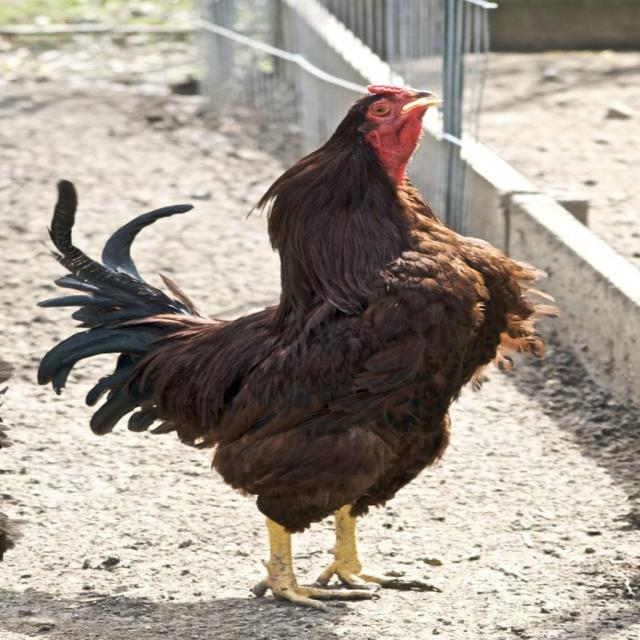Chicken: (19, 74, 556, 612)
